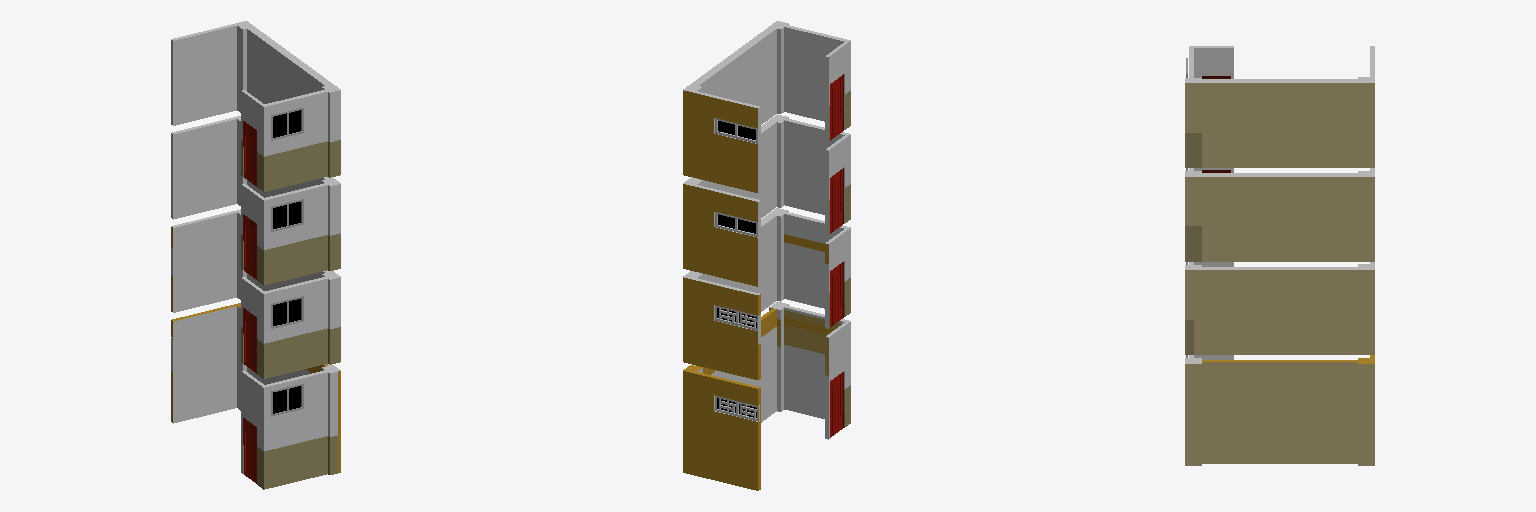
Rendered from bloque_trasero_3.obj.
3 renders of one model, left to right at view 1: azimuth 30°, elevation 25°; view 2: azimuth 150°, elevation 25°; view 3: azimuth 270°, elevation 25°, orthographic.
Visible parts, largest first — view 1: PISO1_Cube.016, VENTANAS_INTERIOR_Cube.090, PUERTA2_Cube.115; view 2: PISO1_Cube.016, PUERTA2_Cube.115, VENTANAS_EXTERIOR_Cube.034; view 3: PISO1_Cube.016.
Part boxes in pixels (left/top/right/bottom): PISO1_Cube.016: left=171, top=21, right=340, bottom=489; VENTANAS_INTERIOR_Cube.090: left=271, top=107, right=303, bottom=416; PUERTA2_Cube.115: left=243, top=121, right=256, bottom=483; PISO1_Cube.016: left=683, top=21, right=850, bottom=490; PUERTA2_Cube.115: left=830, top=74, right=843, bottom=437; VENTANAS_EXTERIOR_Cube.034: left=715, top=118, right=759, bottom=421; PISO1_Cube.016: left=1185, top=46, right=1374, bottom=465.
Bounding box in the file's own units: 4.68 × 22.5 × 10.09.